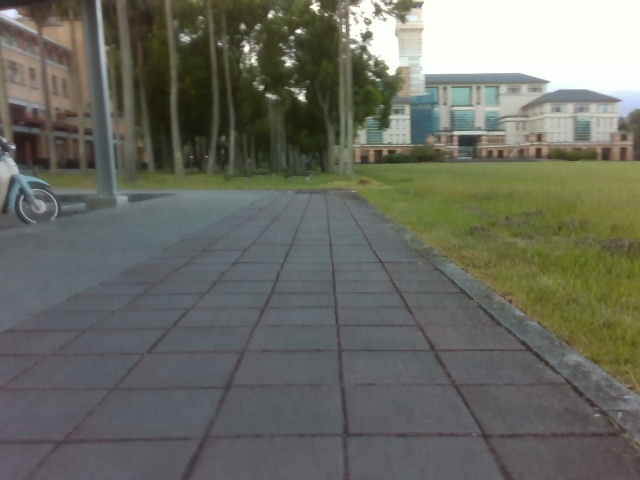grass: (117, 151, 639, 439), (106, 0, 423, 176), (40, 172, 107, 208)
road: (126, 228, 639, 479)
sidewalk: (0, 190, 374, 479)
